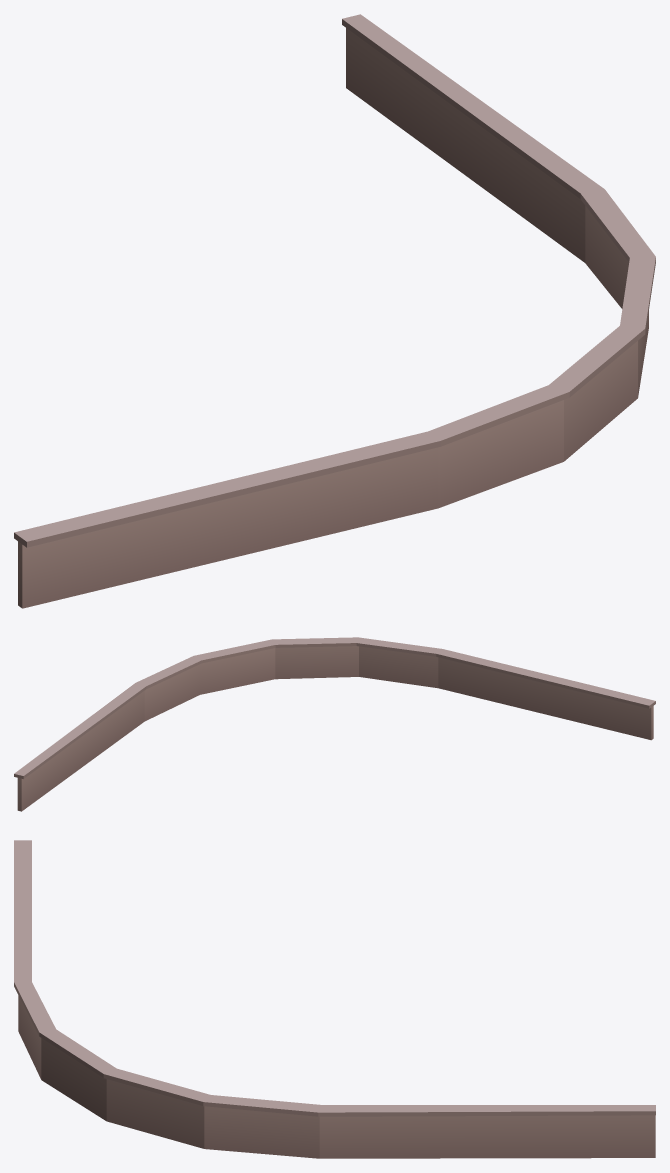
Rendered from pier_wallcorner.glb.
The picture shows the model from 3 angles, top to bottom: view 1: azimuth 30°, elevation 25°; view 2: azimuth 150°, elevation 25°; view 3: azimuth 270°, elevation 25°; orthographic projection. The views are drawn at different scales.
Parts seen in each view (by area): view 1: pier_wallcorner; view 2: pier_wallcorner; view 3: pier_wallcorner.
Part boxes in pixels (left/top/right/bottom): pier_wallcorner: left=14, top=14, right=655, bottom=608; pier_wallcorner: left=14, top=637, right=655, bottom=811; pier_wallcorner: left=14, top=840, right=655, bottom=1158.
Bounding box in the file's own units: 1.98 × 0.167 × 1.98.
